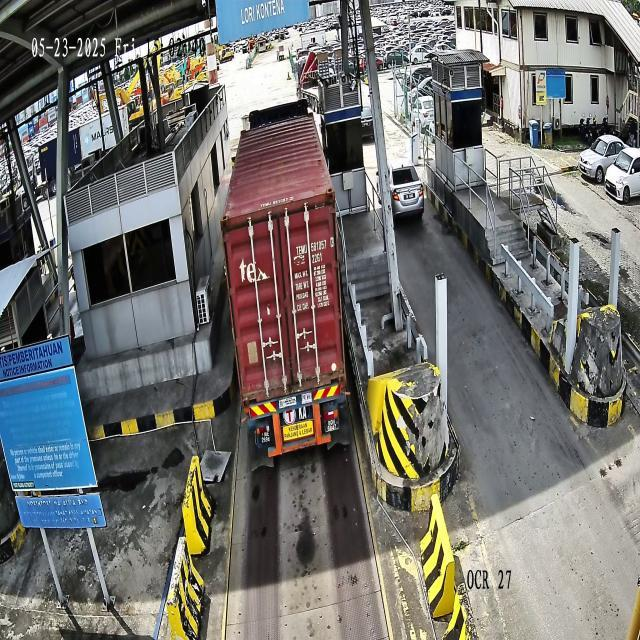ISO: (312, 252, 322, 264)
container_number: (296, 236, 334, 256)
